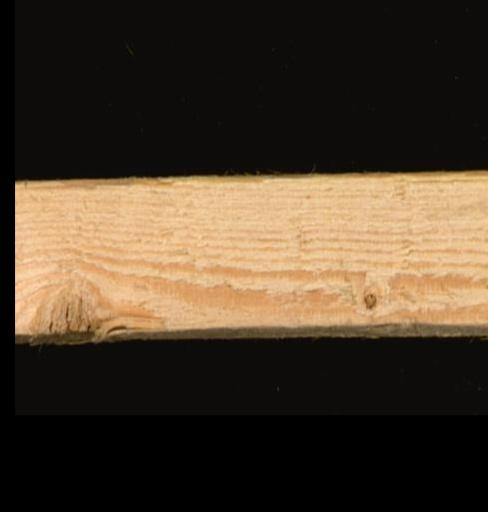dry_knot: (361, 289, 377, 309)
edge_knot: (27, 274, 128, 340)
